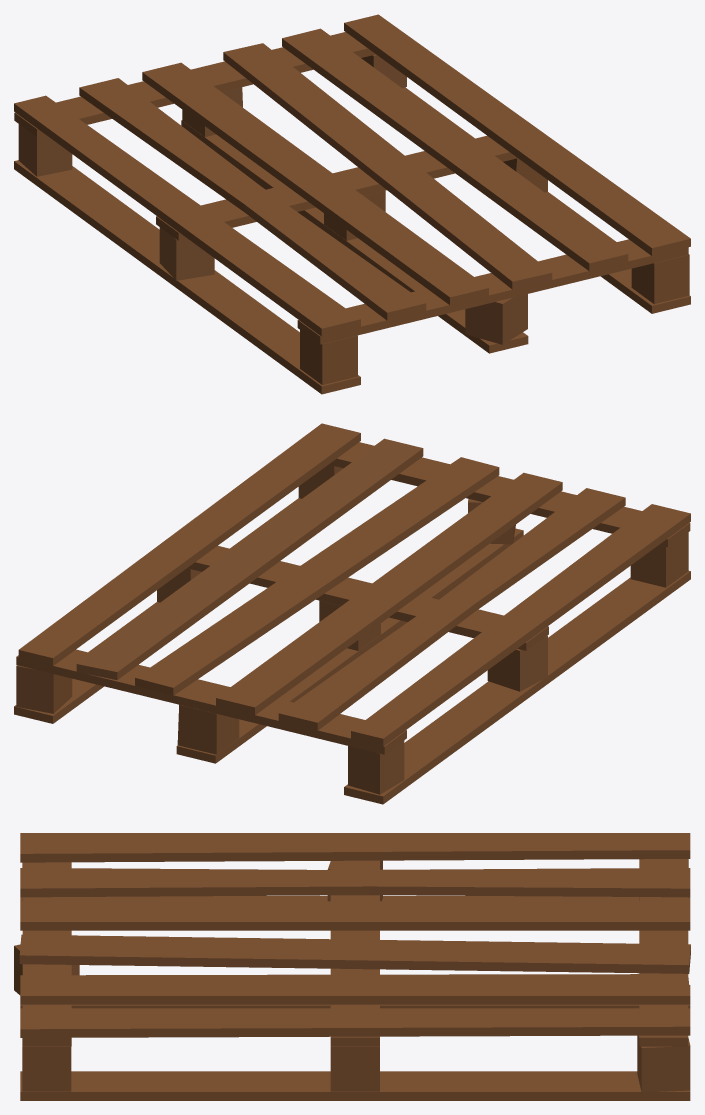
File: pellet.obj
The picture shows the model from 3 angles, top to bottom: view 1: azimuth 30°, elevation 25°; view 2: azimuth 150°, elevation 25°; view 3: azimuth 270°, elevation 25°; orthographic projection. The views are drawn at different scales.
Visible parts, largest first — view 1: Cube.013; view 2: Cube.013; view 3: Cube.013.
Part boxes in pixels (left/top/right/bottom): Cube.013: left=14, top=14, right=690, bottom=394; Cube.013: left=14, top=423, right=690, bottom=804; Cube.013: left=14, top=833, right=690, bottom=1100.
Bounding box in the file's own units: 1.89 × 0.3224 × 2.73.
